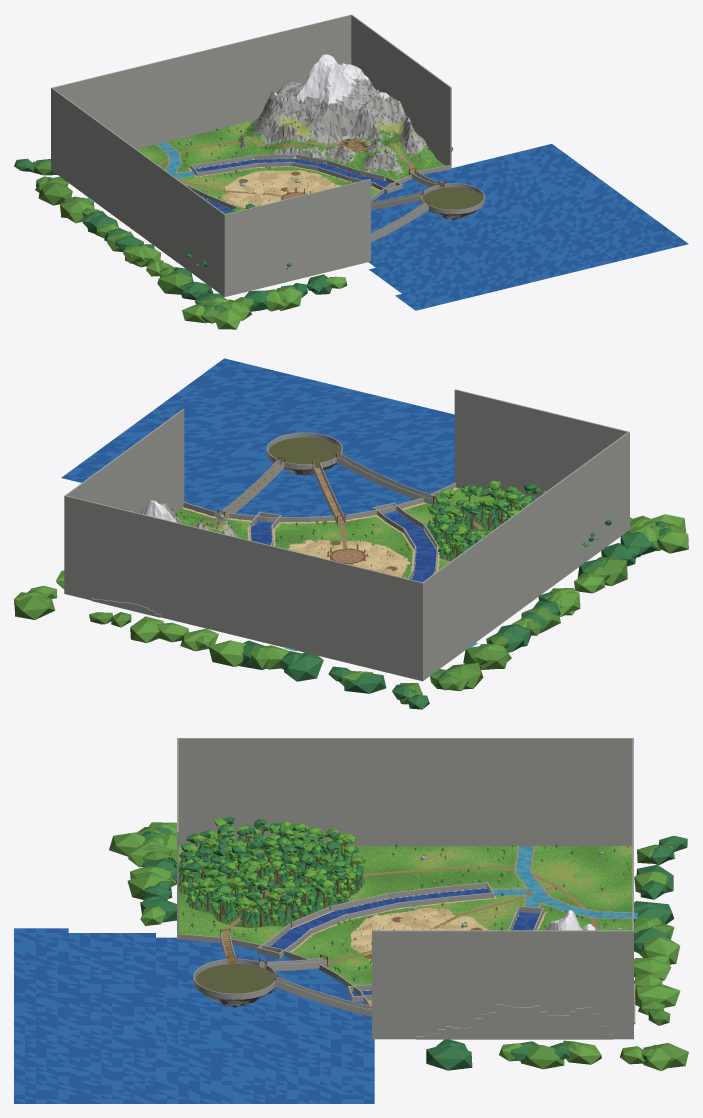
The model's file is LP_Field.fbx.
The picture shows the model from 3 angles, top to bottom: view 1: azimuth 30°, elevation 25°; view 2: azimuth 150°, elevation 25°; view 3: azimuth 270°, elevation 25°; orthographic projection. The views are drawn at different scales.
Visible parts, largest first — view 1: Field_Barrier, Field_Water, Field_Mountains, Field_Decor, Field_Ground, Field_Bridges, Field_Trees; view 2: Field_Barrier, Field_Water, Field_Decor, Field_Ground, Field_Trees, Field_Bridges, Field_Mountains, Field_BridgeRopes; view 3: Field_Barrier, Field_Water, Field_Ground, Field_Decor, Field_Trees, Field_MountainFill, Field_Bridges.
Part boxes in pixels (bbox=[...]): Field_Barrier: bbox=[51, 14, 484, 296]; Field_Water: bbox=[87, 142, 688, 310]; Field_Mountains: bbox=[238, 54, 438, 179]; Field_Decor: bbox=[14, 121, 453, 329]; Field_Ground: bbox=[137, 120, 445, 209]; Field_Bridges: bbox=[409, 167, 484, 219]; Field_Trees: bbox=[178, 116, 438, 269]; Field_Barrier: bbox=[64, 389, 629, 681]; Field_Water: bbox=[61, 358, 477, 651]; Field_Decor: bbox=[14, 496, 688, 709]; Field_Ground: bbox=[174, 487, 520, 578]; Field_Trees: bbox=[171, 480, 611, 560]; Field_Bridges: bbox=[217, 437, 437, 524]; Field_Mountains: bbox=[131, 500, 242, 538]; Field_BridgeRopes: bbox=[218, 450, 436, 524]; Field_Barrier: bbox=[177, 738, 633, 1039]; Field_Water: bbox=[14, 846, 637, 1103]; Field_Ground: bbox=[178, 846, 632, 1005]; Field_Decor: bbox=[109, 822, 688, 1070]; Field_Trees: bbox=[173, 817, 630, 981]; Field_MountainFill: bbox=[416, 984, 635, 1039]; Field_Bridges: bbox=[194, 928, 327, 1007].
Size of what is drawn, in the model's own units: 746 by 157 by 741.
